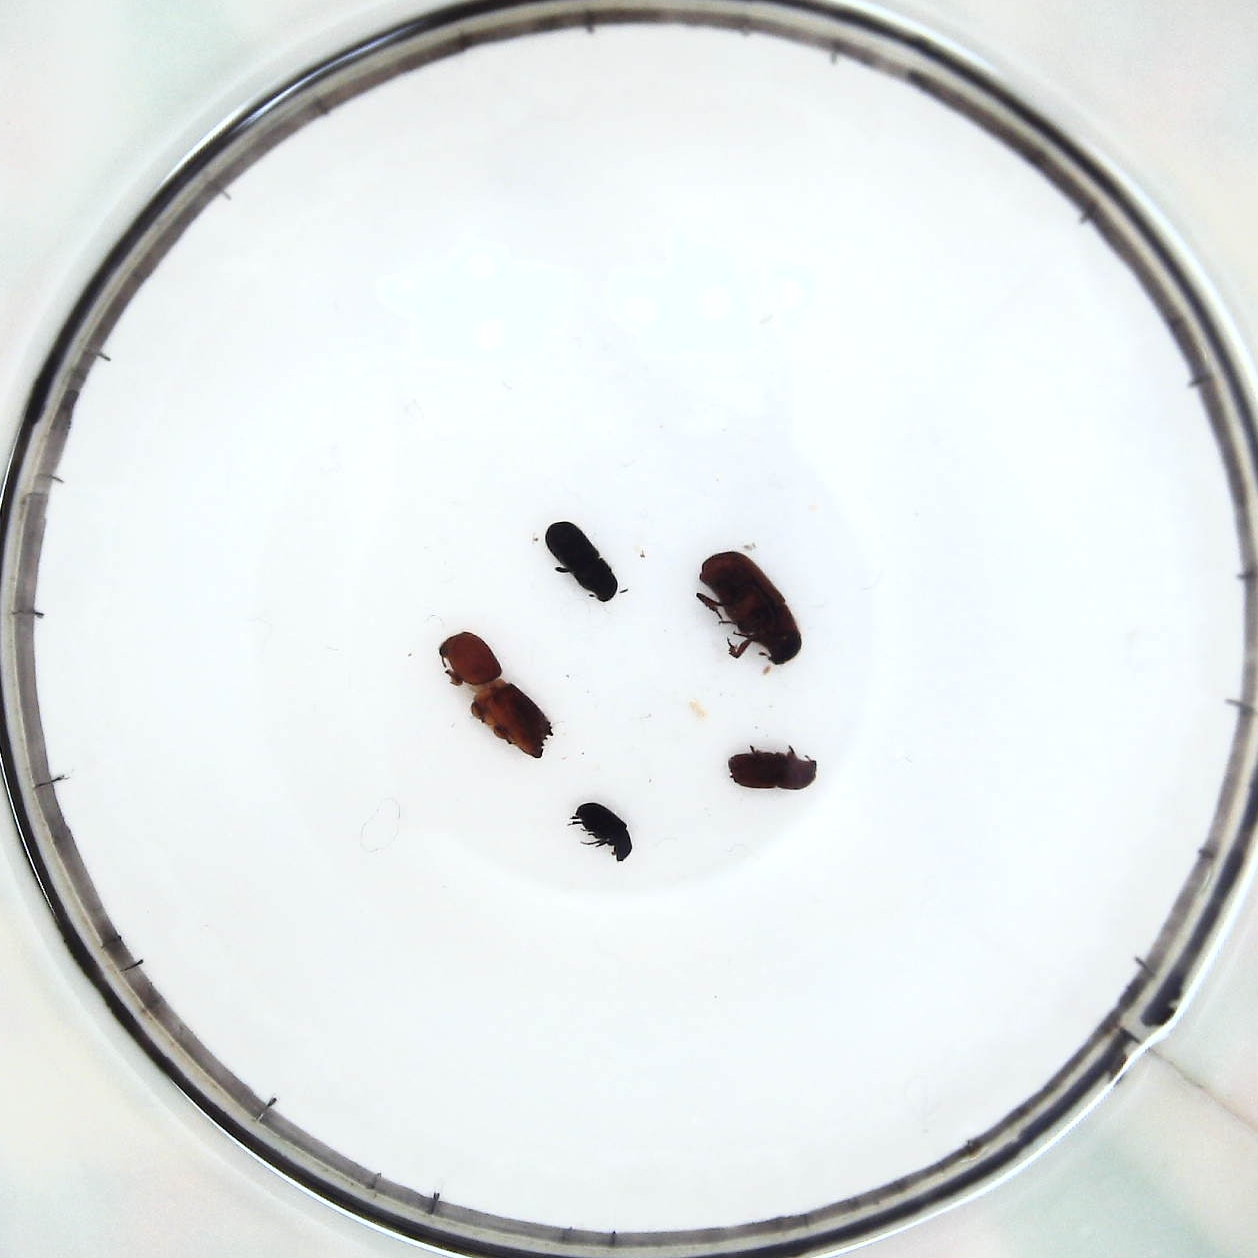Boerner: (435, 629, 556, 763)
Leconte: (696, 547, 806, 677)
Linnaeus: (729, 747, 814, 799)
armandi: (548, 515, 623, 603)
coleoptera: (575, 802, 635, 861)
